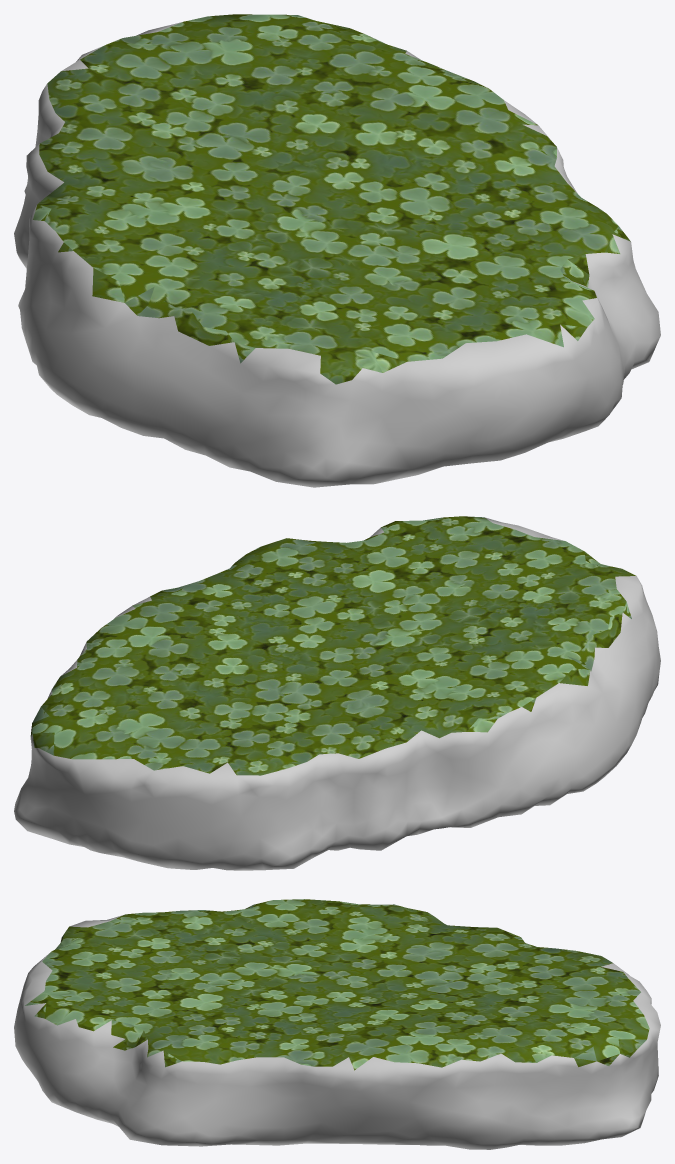
File: CavePlatf3A.fbx
The picture shows the model from 3 angles, top to bottom: view 1: azimuth 30°, elevation 25°; view 2: azimuth 150°, elevation 25°; view 3: azimuth 270°, elevation 25°; orthographic projection. The views are drawn at different scales.
Visible parts, largest first — view 1: CavePlatform3A; view 2: CavePlatform3A; view 3: CavePlatform3A.
Boxes of the visible parts, left/top/right/bottom form: CavePlatform3A: left=14, top=14, right=660, bottom=487; CavePlatform3A: left=14, top=516, right=660, bottom=870; CavePlatform3A: left=14, top=899, right=660, bottom=1149.
Size of the model in its own units: 679 by 162 by 973.
